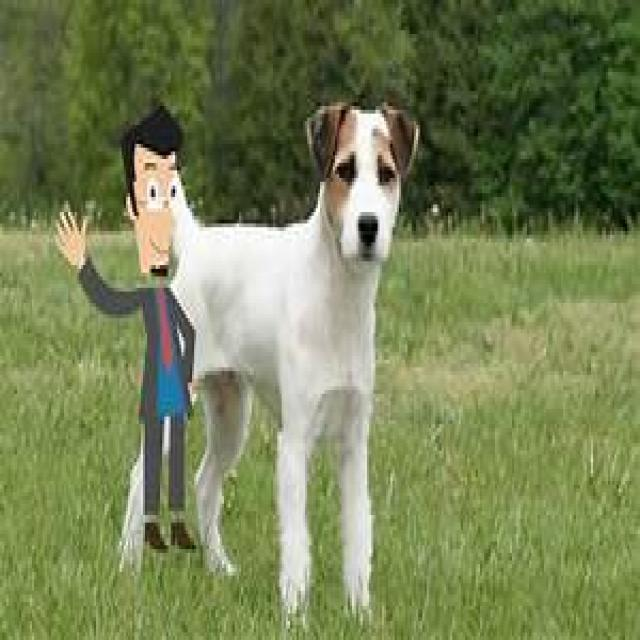KOPEK: (174, 117, 415, 608)
